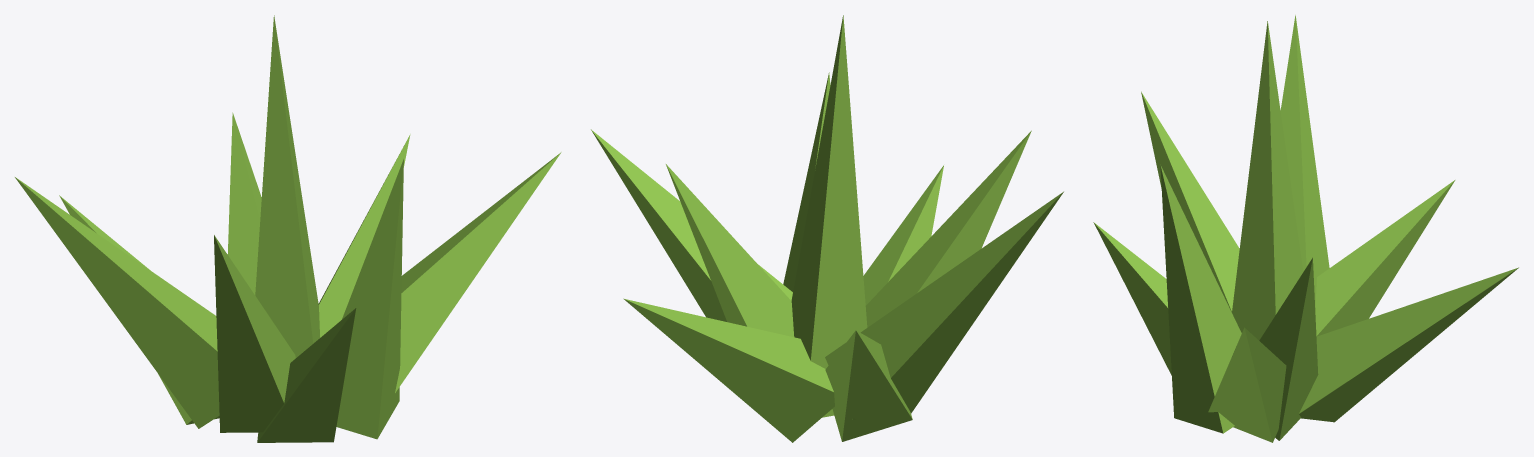
Rendered from tuft-of-grass.glb.
3 views of the same model, side by side, from view 1: azimuth 30°, elevation 25°; view 2: azimuth 150°, elevation 25°; view 3: azimuth 270°, elevation 25° (orthographic). The views are drawn at different scales.
Visible parts, largest first — view 1: Node; view 2: Node; view 3: Node.
Boxes of the visible parts, x1,y1,x2,y2 form: Node: (15, 15, 561, 442); Node: (591, 15, 1063, 442); Node: (1093, 15, 1518, 442).
Size of the model in its own units: 0.1436 by 0.1118 by 0.1094.
